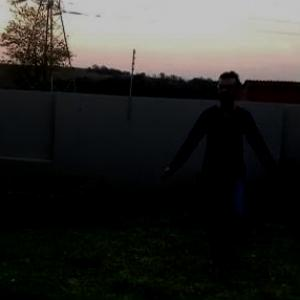land: (160, 68, 288, 275)
